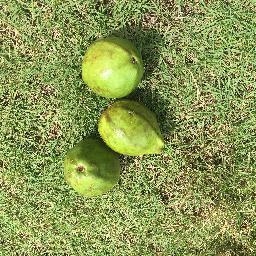Good_guava: (96, 100, 173, 158), (81, 34, 146, 97), (63, 139, 121, 202)
